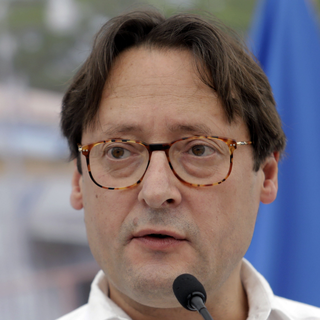eye: (178, 140, 221, 163), (101, 141, 141, 164)
